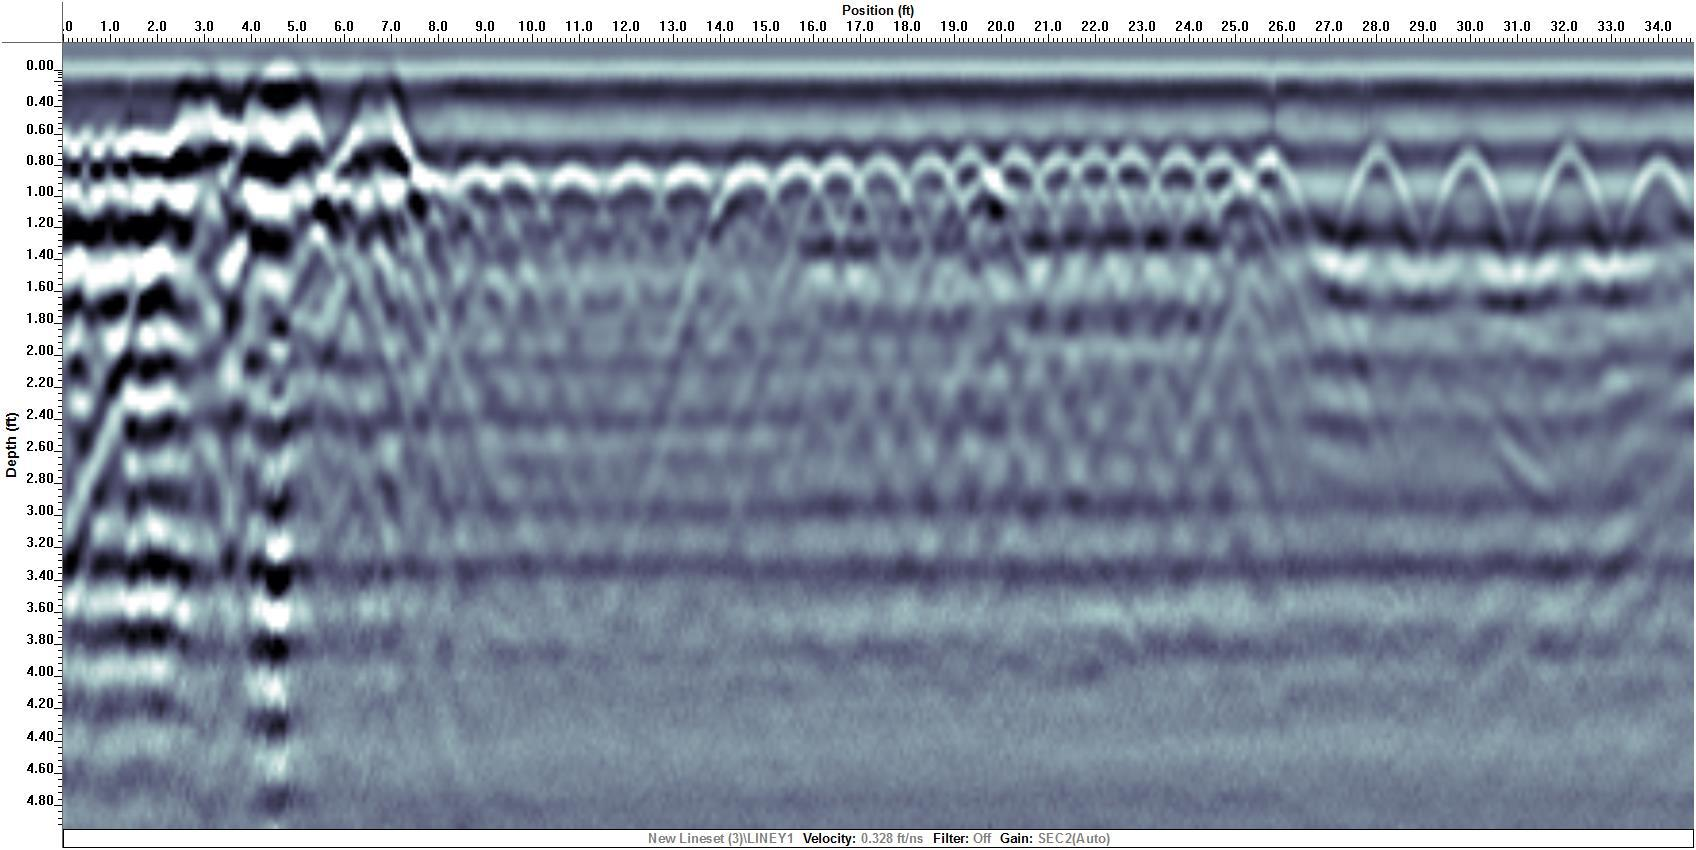hyperbola: (1321, 120, 1428, 294), (538, 156, 611, 275), (652, 153, 717, 287)
